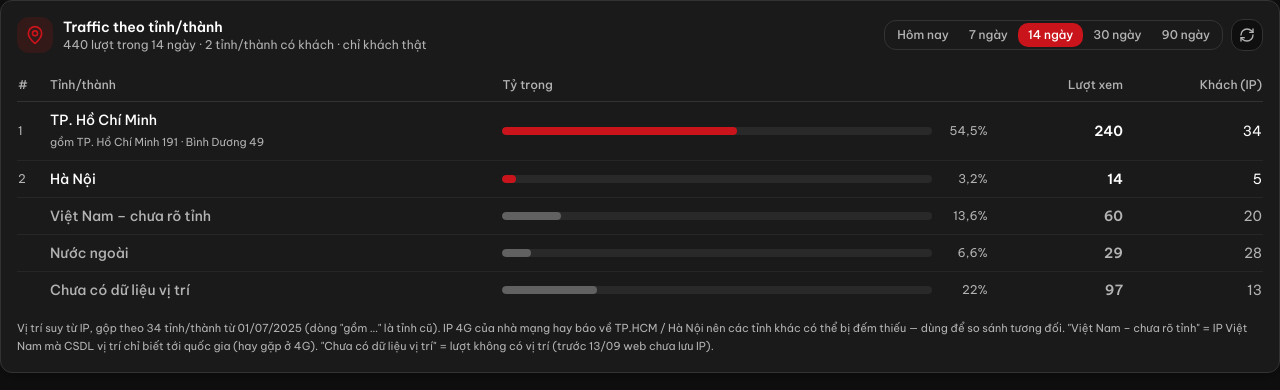
Test case: ProvinceTrafficSection — view Hôm nay vs Hôm qua › đổi từ Hôm nay về 14 ngày không vẽ nhầm dữ liệu khác hình
The width and height of the screenshot is (1280, 390).
Check: the text "440 lượt trong 14 ngày" is shown, box [63,37,427,52]
Click the button "Hôm nay": (923, 35) [887,23,959,47]
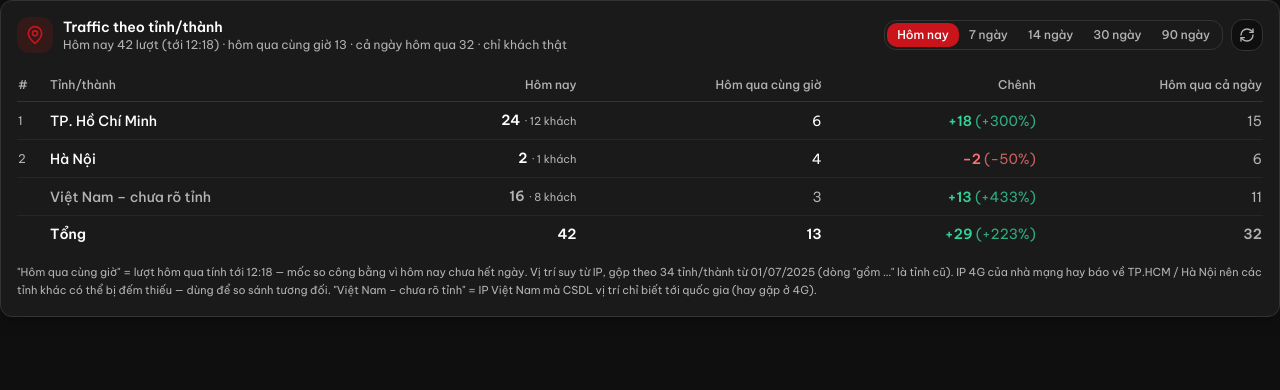
Check: the text "Hôm nay 42 lượt" is shown, box [63,37,567,52]
Click the button "14 ngày": (1051, 35) [1018,23,1083,47]
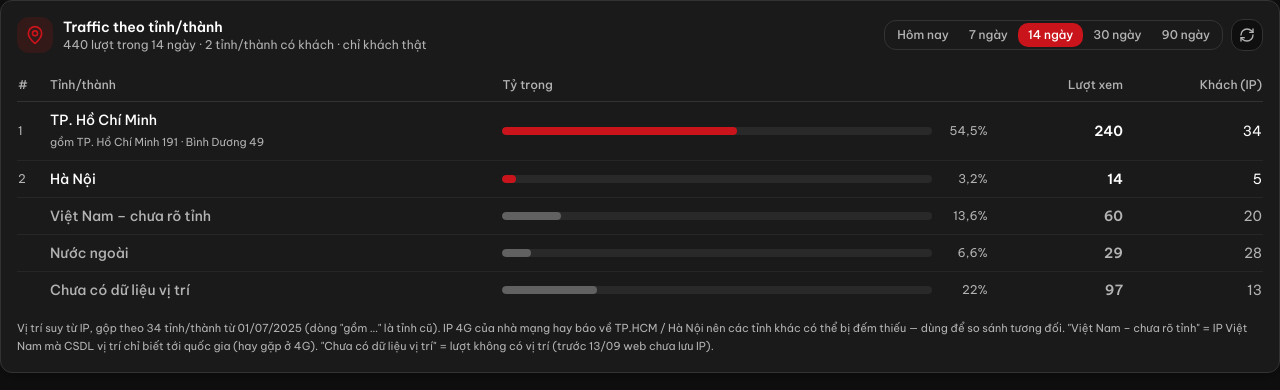
Check: the text "440 lượt trong 14 ngày" is shown, box [63,37,427,52]
Check: the column heading "Tỷ trọng" is shown, box [501,69,1000,102]
